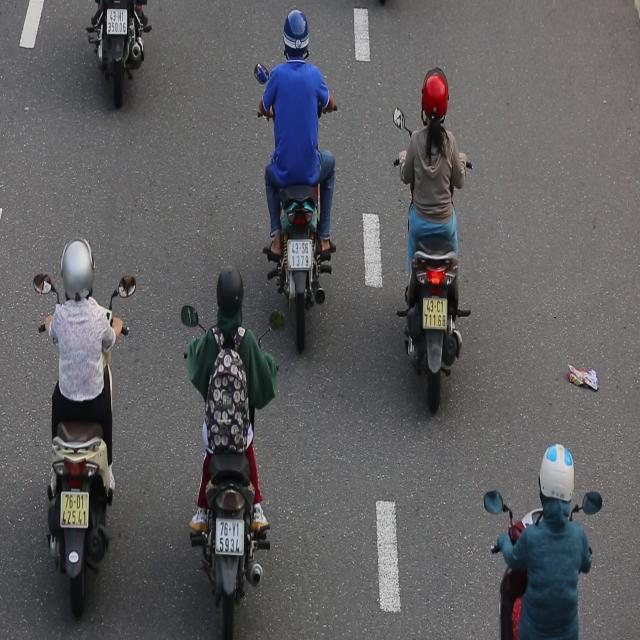motorbike: (29, 226, 140, 624), (178, 259, 284, 637), (250, 1, 344, 355), (394, 58, 472, 418)
